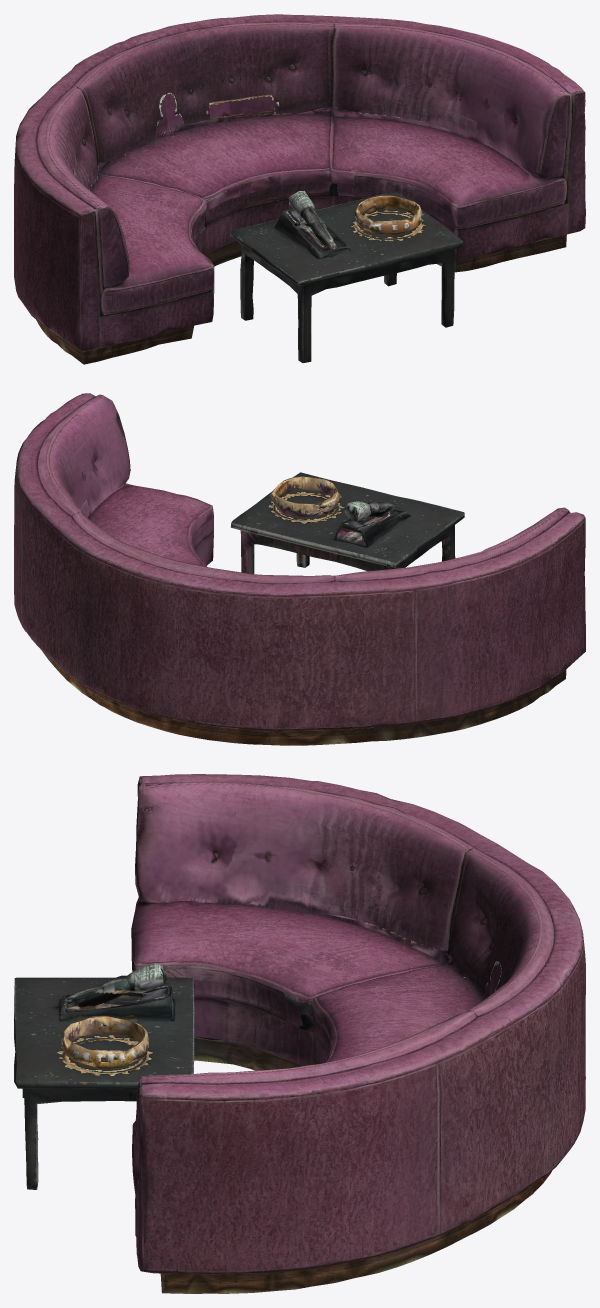
File: karaoke_booth.glb
3 renders of one model, top to bottom at view 1: azimuth 30°, elevation 25°; view 2: azimuth 150°, elevation 25°; view 3: azimuth 270°, elevation 25°, orthographic. The views are drawn at different scales.
Parts seen in each view (by area): view 1: texture_mapping; view 2: texture_mapping; view 3: texture_mapping.
Part boxes in pixels (x1,y1,x2,y2): texture_mapping: (14, 14, 585, 364); texture_mapping: (14, 393, 585, 745); texture_mapping: (14, 774, 585, 1293).
Size of the model in its own units: 1 by 0.3099 by 0.7477.
1 material, 1 textured.
